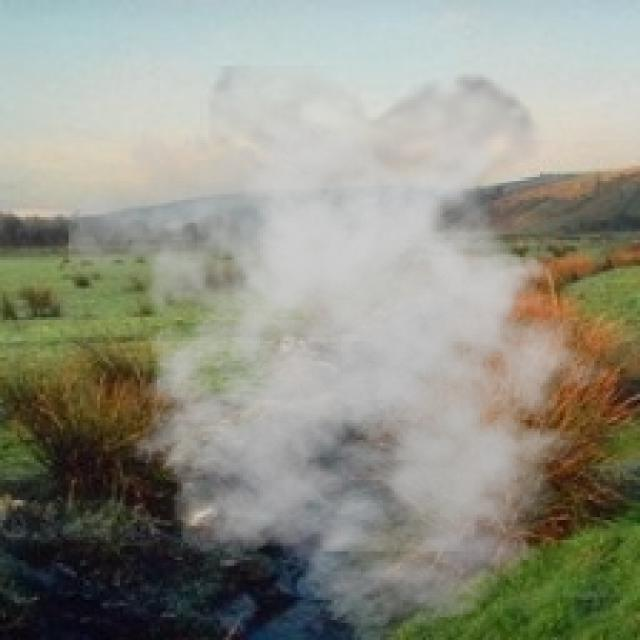Smoke: (68, 66, 634, 628)
